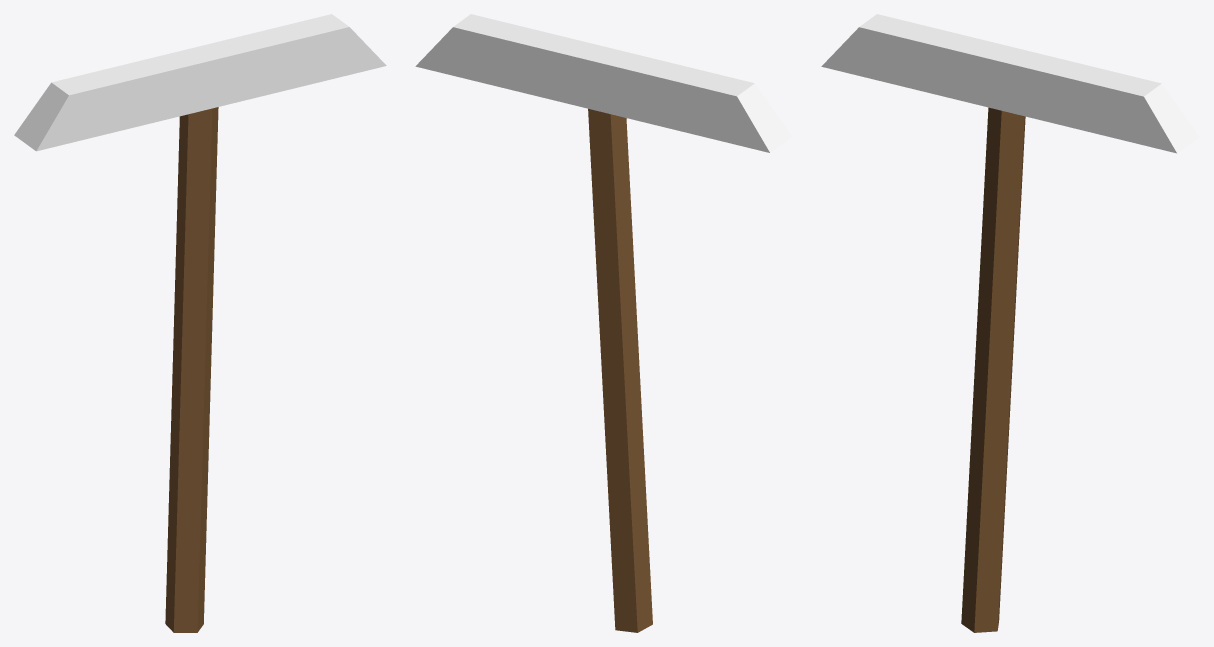
The model's file is tool_pick.glb.
3 renders of one model, left to right at view 1: azimuth 30°, elevation 25°; view 2: azimuth 150°, elevation 25°; view 3: azimuth 330°, elevation 25°, orthographic.
Visible parts, largest first — view 1: part.001, part; view 2: part.001, part; view 3: part.001, part.
Boxes of the visible parts, bbox=[...] form: part.001: bbox=[14, 14, 386, 151]; part: bbox=[165, 107, 218, 632]; part.001: bbox=[415, 14, 792, 152]; part: bbox=[588, 108, 652, 632]; part.001: bbox=[821, 14, 1199, 153]; part: bbox=[961, 107, 1025, 632].
Bounding box in the file's own units: 0.32 × 0.4906 × 0.0433.
